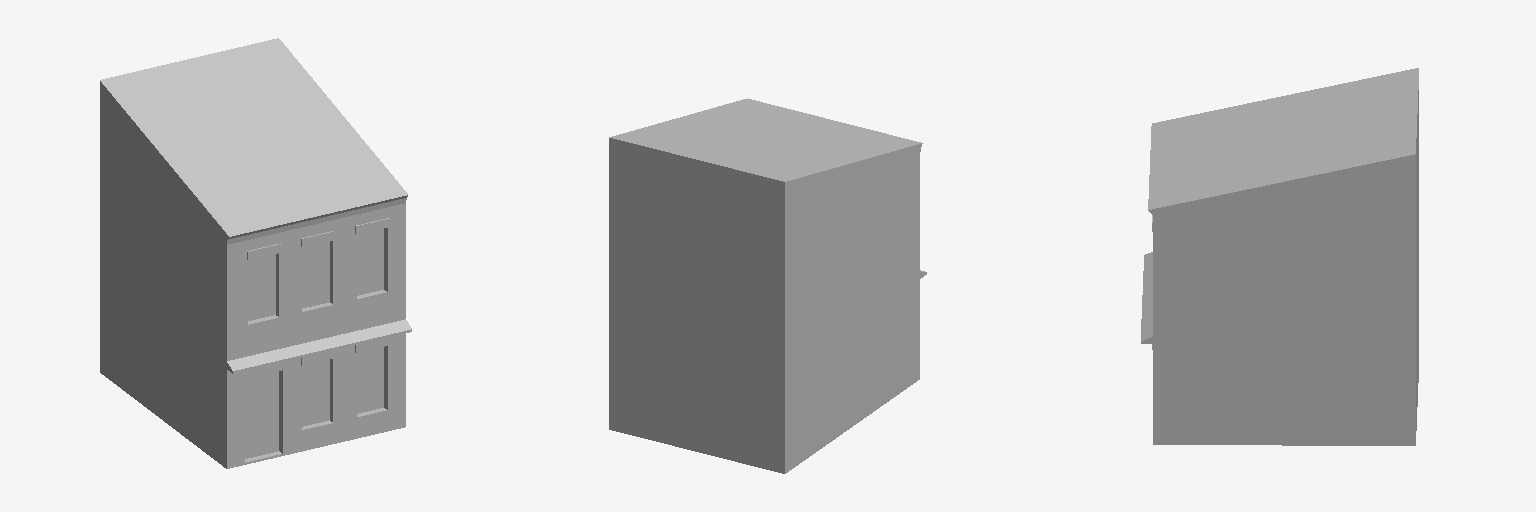
File: house3.obj
3 renders of one model, left to right at view 1: azimuth 30°, elevation 25°; view 2: azimuth 150°, elevation 25°; view 3: azimuth 270°, elevation 25°, orthographic.
Visible parts, largest first — view 1: houseSmall_null_; view 2: houseSmall_null_; view 3: houseSmall_null_.
Part boxes in pixels (x1,y1,x2,y2): houseSmall_null_: (100,38,411,468); houseSmall_null_: (609,98,926,473); houseSmall_null_: (1141,68,1418,445).
Bounding box in the file's own units: 34.84 × 53.51 × 46.28.